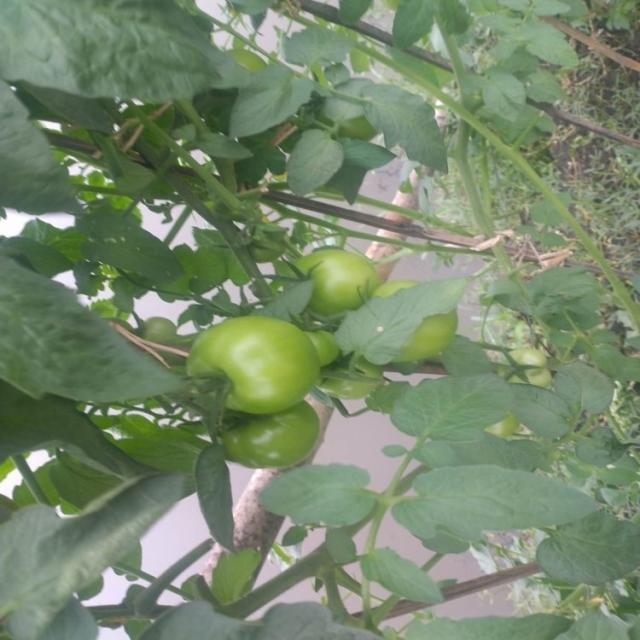tomato: (185, 310, 325, 409), (276, 232, 383, 320), (207, 394, 326, 469), (382, 289, 469, 369), (491, 335, 557, 400), (146, 310, 185, 350)
